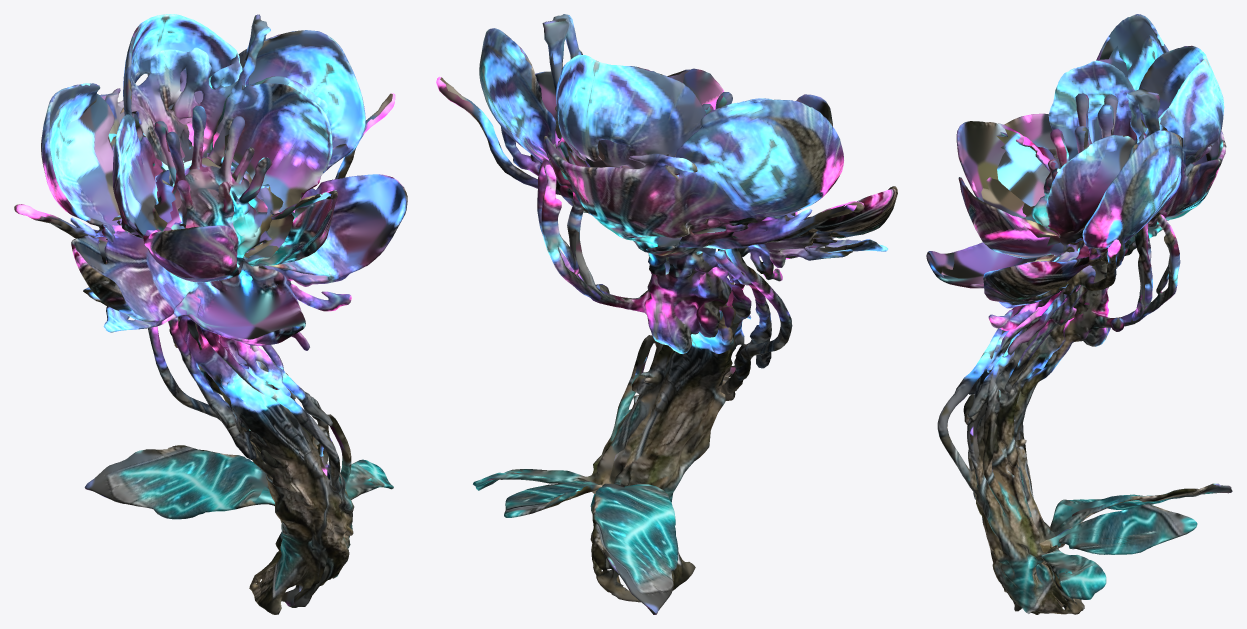
Rendered from glowing_flower_pod.glb.
3 views of the same model, side by side, from view 1: azimuth 30°, elevation 25°; view 2: azimuth 150°, elevation 25°; view 3: azimuth 270°, elevation 25° (orthographic). The views are drawn at different scales.
Visible parts, largest first — view 1: geometry_0; view 2: geometry_0; view 3: geometry_0.
Part boxes in pixels (x1=…): geometry_0: x1=14, y1=14, x2=407, y2=614; geometry_0: x1=436, y1=14, x2=897, y2=614; geometry_0: x1=926, y1=14, x2=1232, y2=614.
Size of the model in its own units: 1.37 by 1.85 by 0.9659.
1 material, 1 textured.
